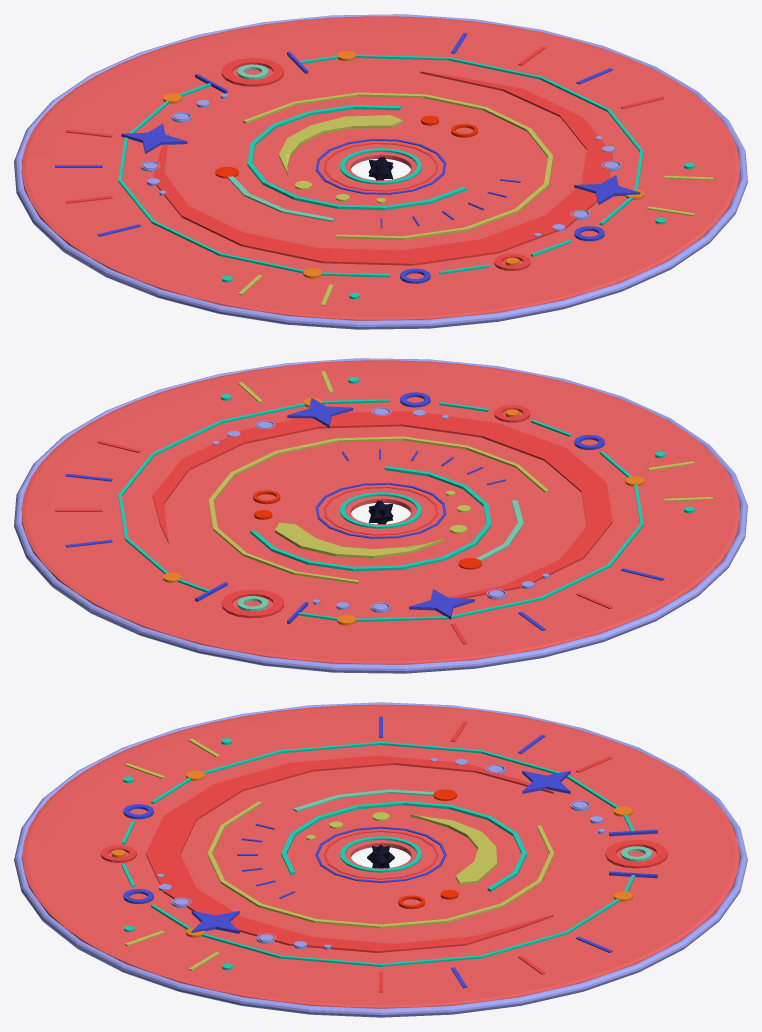
File: balance up.fbx
3 renders of one model, top to bottom at view 1: azimuth 30°, elevation 25°; view 2: azimuth 150°, elevation 25°; view 3: azimuth 270°, elevation 25°, orthographic.
Visible parts, largest first — view 1: flat_art_ring__out; view 2: flat_art_ring__out; view 3: flat_art_ring__out.
Part boxes in pixels (box(x1,y1,x2,y2)): flat_art_ring__out: box(14, 14, 747, 329); flat_art_ring__out: box(14, 358, 747, 673); flat_art_ring__out: box(14, 702, 747, 1017).
Bounding box in the file's own units: 203 × 7.75 × 203.
